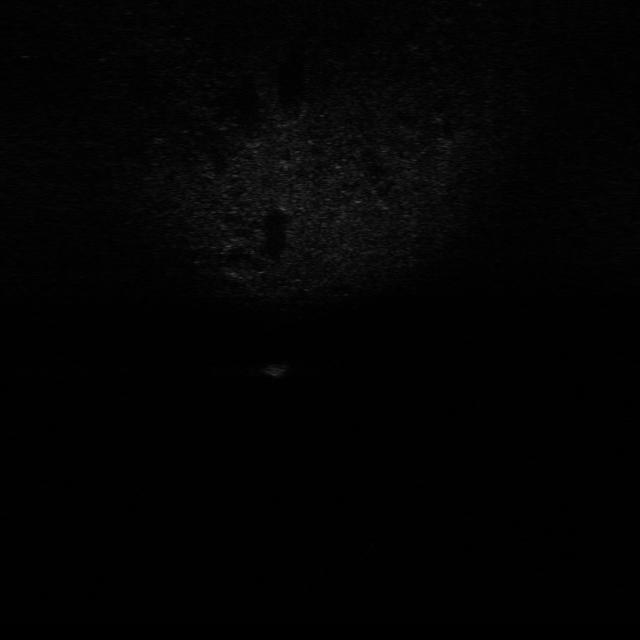cube: (252, 357, 297, 378)
